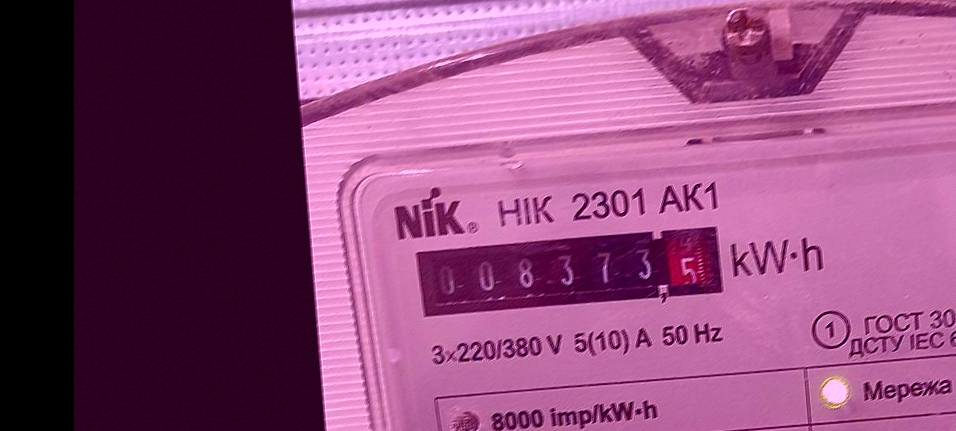0: (435, 259, 458, 297), (475, 255, 497, 292)
3: (632, 242, 656, 281), (554, 249, 578, 287)
4: (676, 231, 695, 253)
5: (679, 252, 700, 283)
7: (594, 245, 615, 285)
8: (514, 252, 538, 289)
screen: (410, 217, 733, 328)
